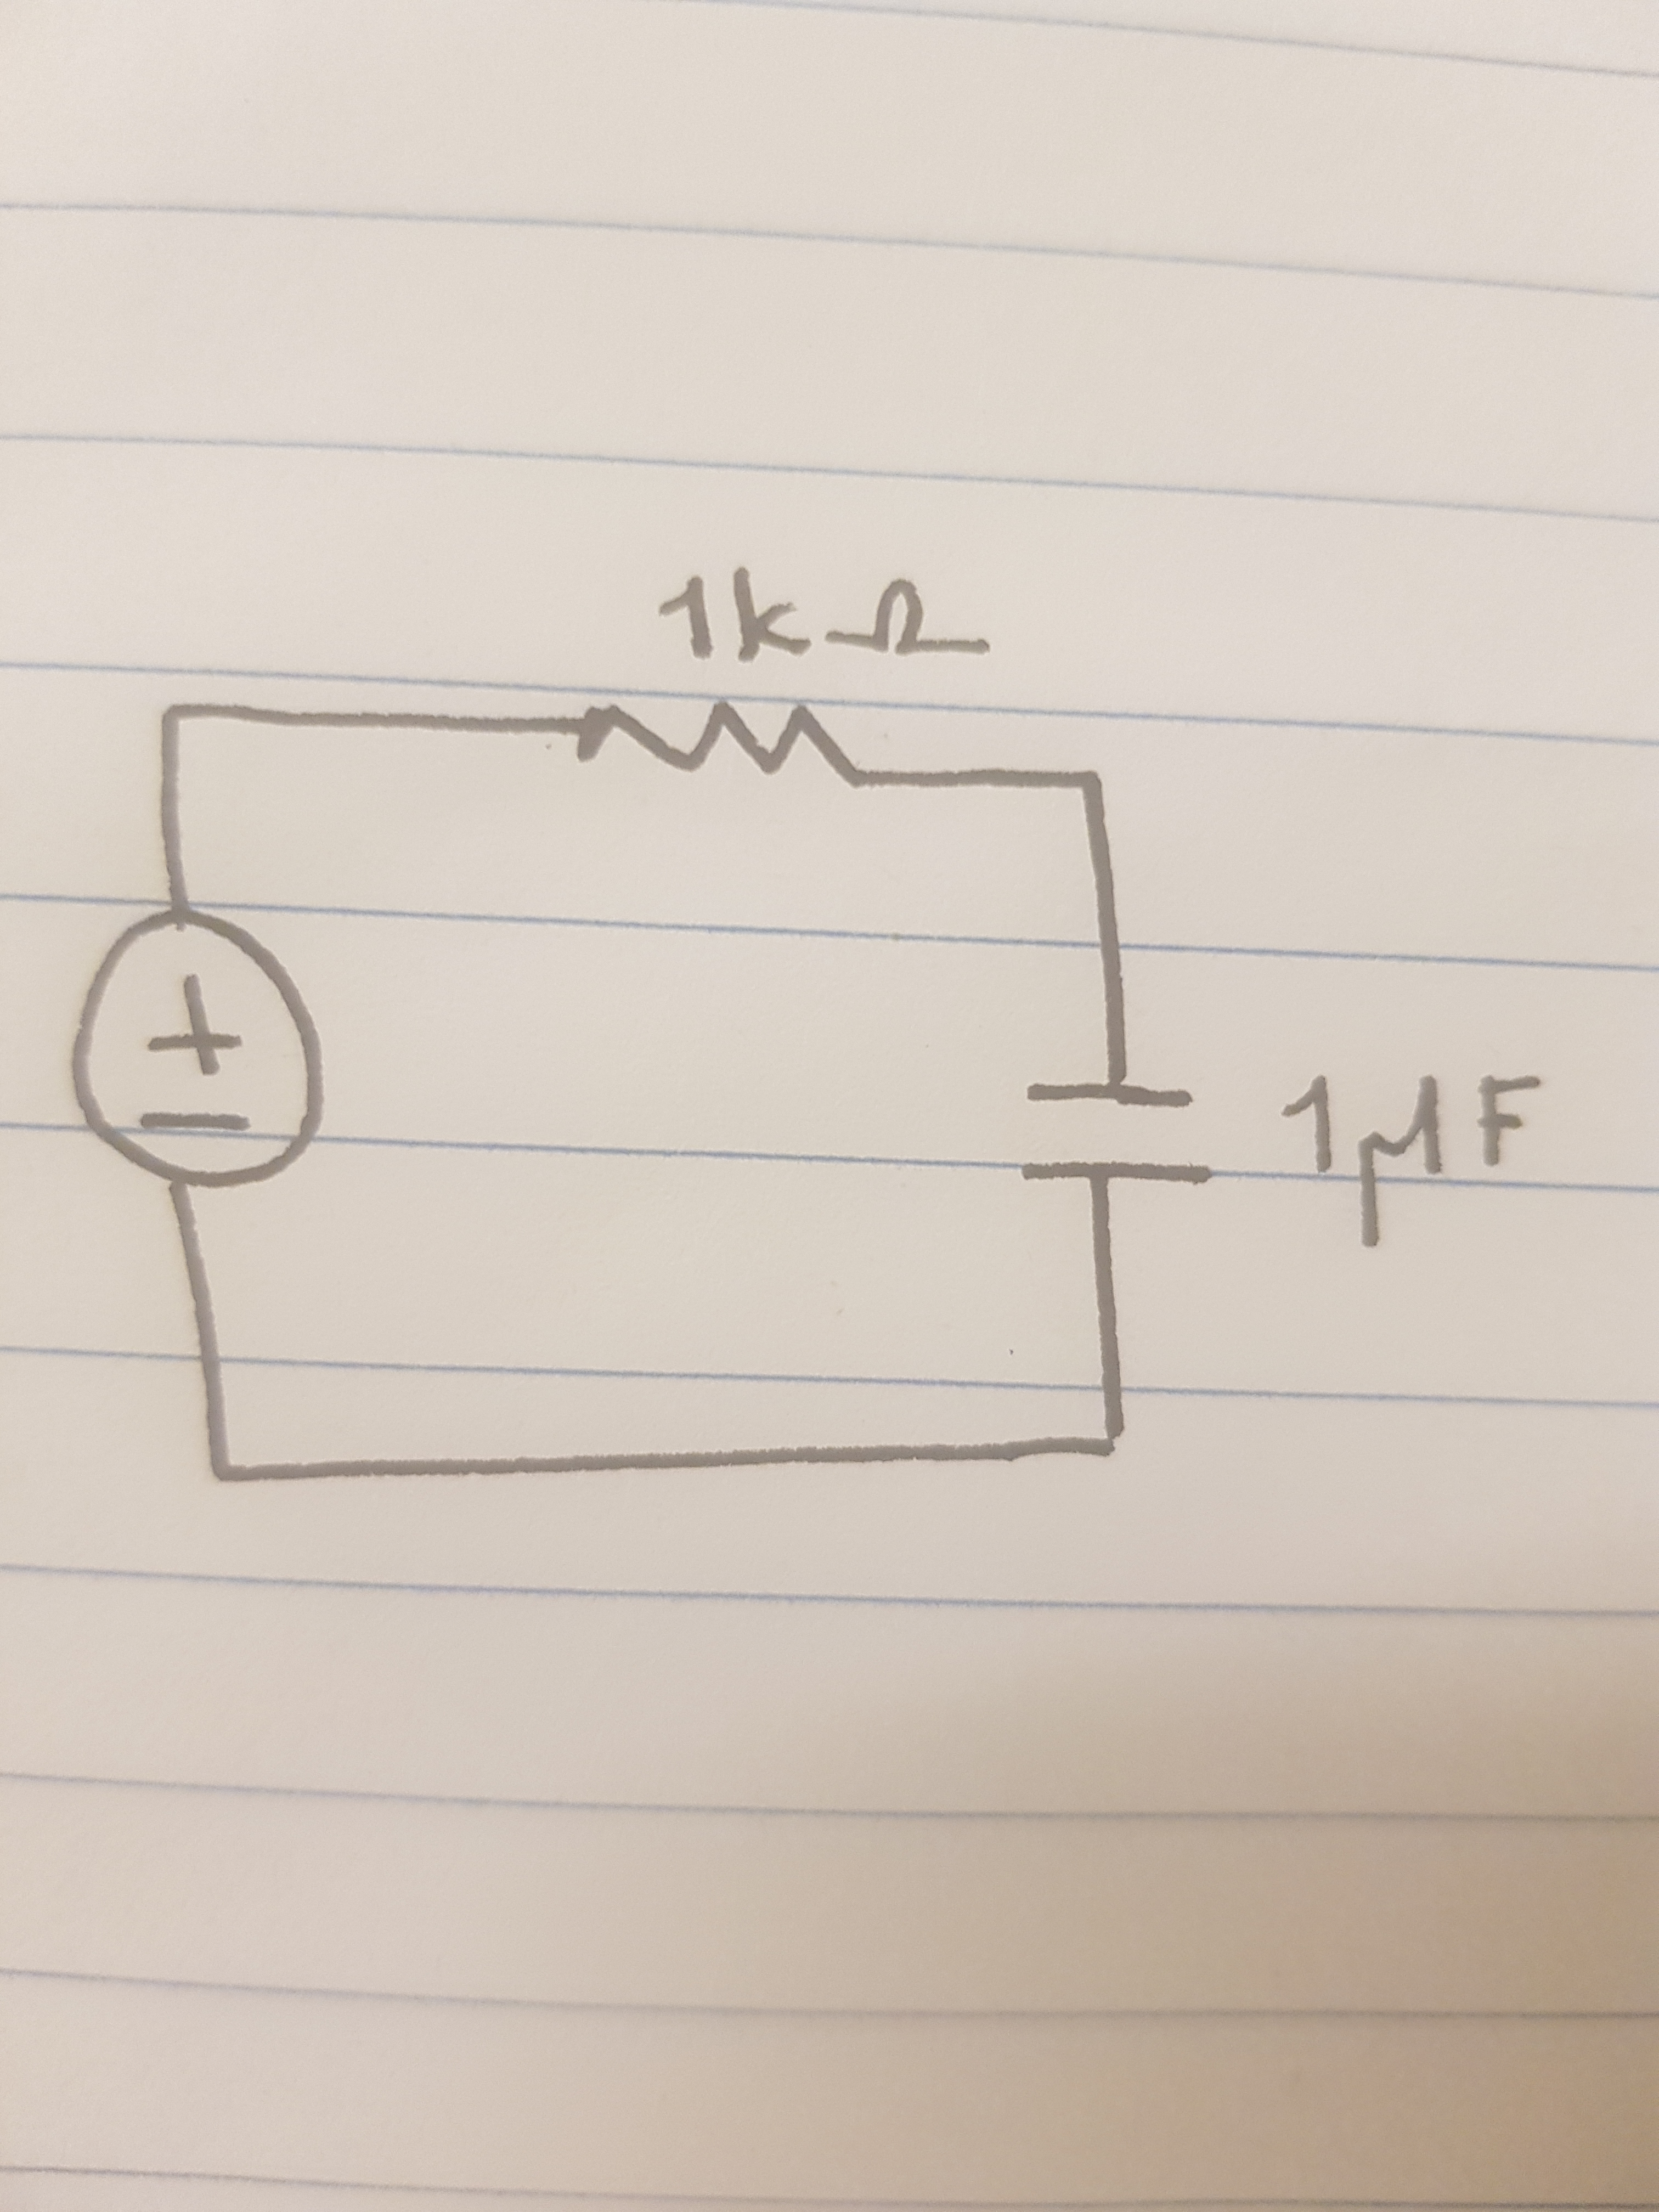capacitor.unpolarized: (1009, 1059, 1227, 1207)
junction: (193, 1442, 256, 1498), (1087, 1411, 1138, 1477), (1060, 758, 1119, 808), (143, 690, 206, 735)
resistor: (552, 679, 887, 806)
text: (1269, 1059, 1563, 1254), (652, 563, 1011, 679)
voltage.dc: (47, 902, 342, 1204)
